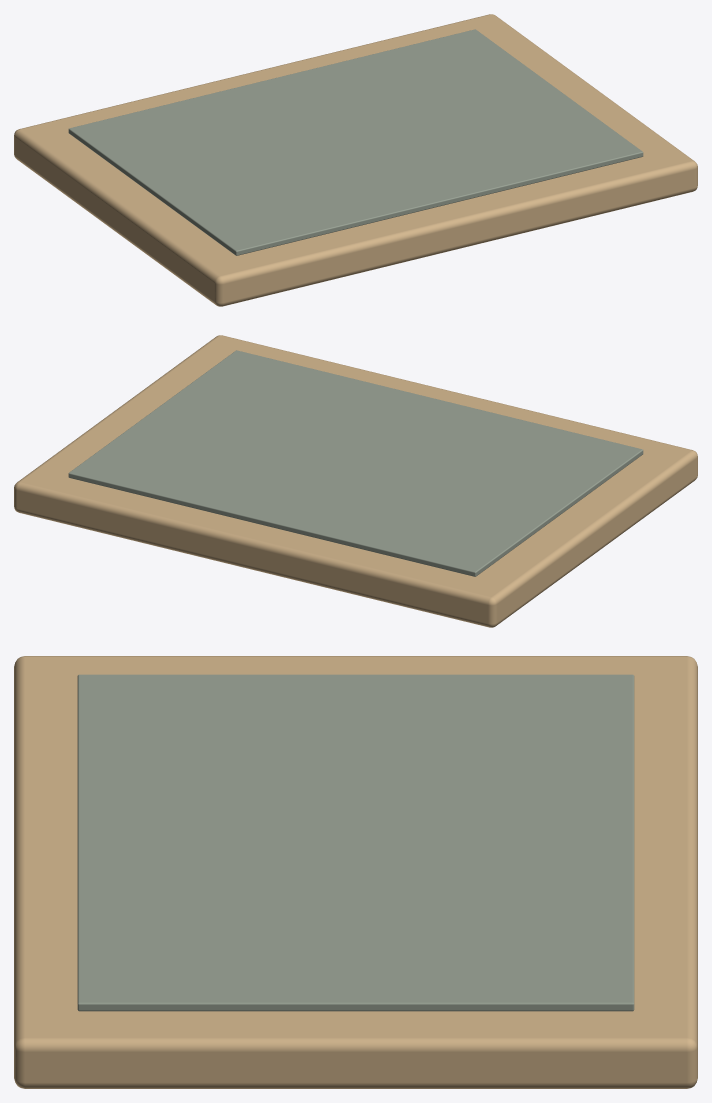
The model's file is bookbinding-and-paper-mill-couching-board-9822b752__30550.glb.
The picture shows the model from 3 angles, top to bottom: view 1: azimuth 30°, elevation 25°; view 2: azimuth 150°, elevation 25°; view 3: azimuth 270°, elevation 25°; orthographic projection. The views are drawn at different scales.
Visible parts, largest first — view 1: couching-board; view 2: couching-board; view 3: couching-board.
Boxes of the visible parts, x1,y1,x2,y2 form: couching-board: (14, 14, 697, 306); couching-board: (14, 335, 697, 627); couching-board: (14, 656, 697, 1088).
Bounding box in the file's own units: 0.58 × 0.041 × 0.43.
